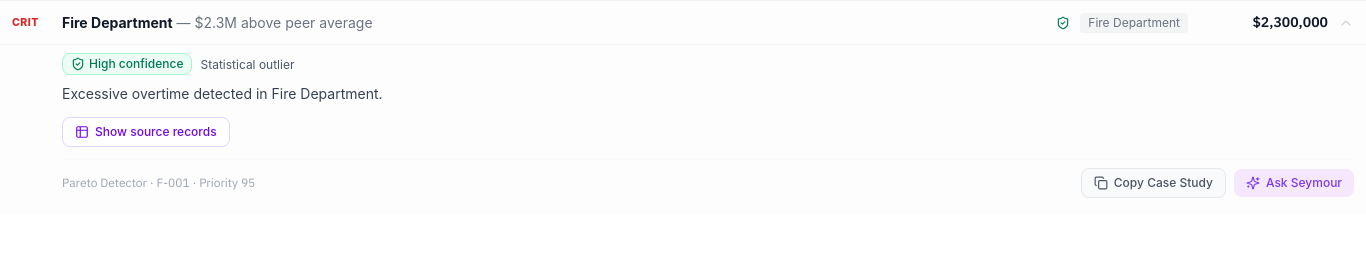
Test case: WasteFindingCard › shows loading indicator when details are being fetched
Click the button "Show source records": (146, 132) left=62, top=117, right=230, bottom=147
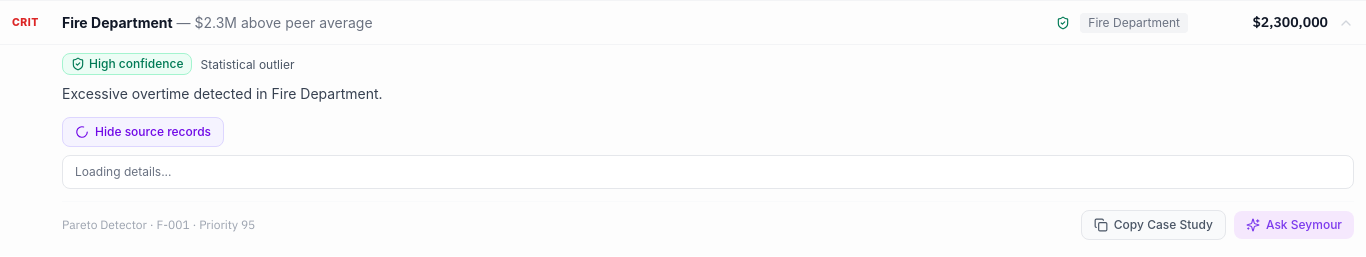
Check: the text "Loading details..." is shown, box left=75, top=164, right=172, bottom=179
